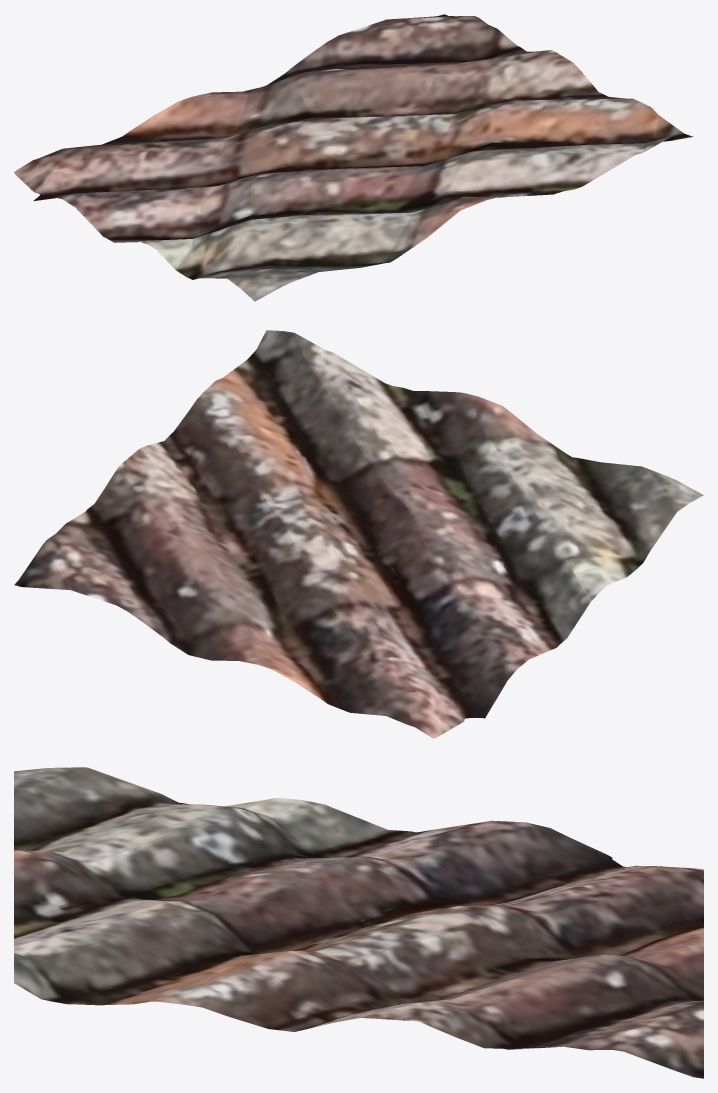
3 views of the same model, one above another, from view 1: azimuth 30°, elevation 25°; view 2: azimuth 150°, elevation 25°; view 3: azimuth 270°, elevation 25° (orthographic). The views are drawn at different scales.
Size of the model in its own units: 0.8373 by 0.2298 by 0.8373.
2 materials, 2 textured.
